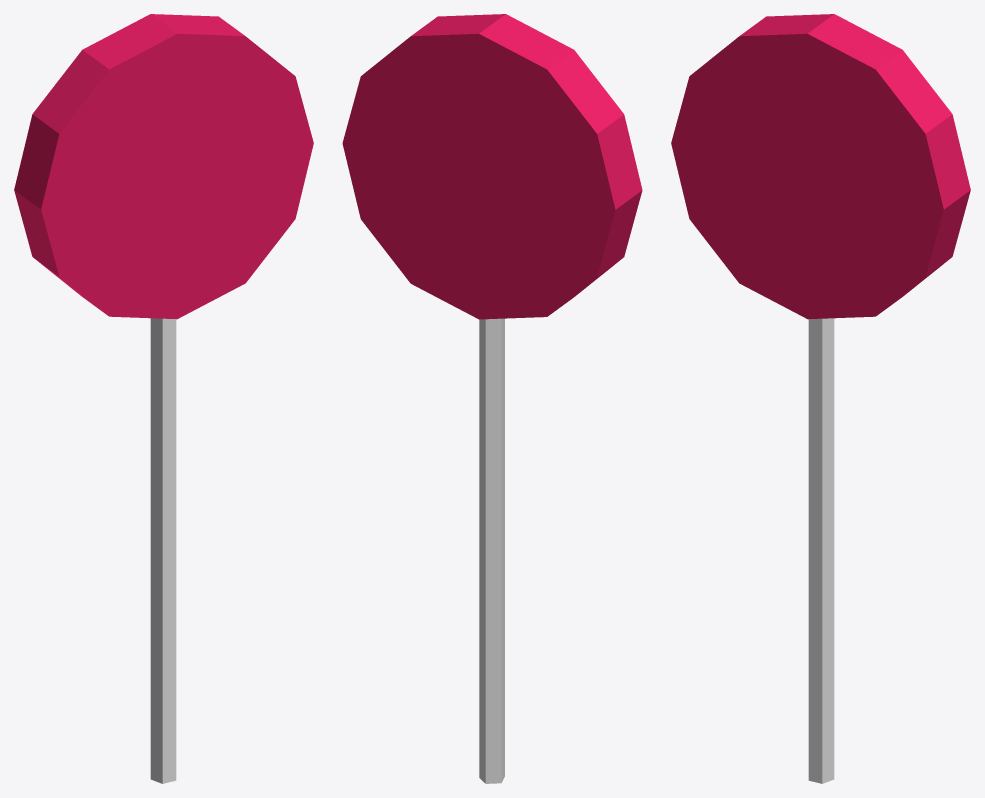
The model's file is lollipop.obj.
The picture shows the model from 3 angles, left to right: view 1: azimuth 30°, elevation 25°; view 2: azimuth 150°, elevation 25°; view 3: azimuth 330°, elevation 25°; orthographic projection.
Visible parts, largest first — view 1: lollipop; view 2: lollipop; view 3: lollipop.
Part boxes in pixels (<box>): lollipop: <box>14,14,313,783</box>; lollipop: <box>342,14,642,783</box>; lollipop: <box>671,14,970,783</box>.
Size of the model in its own units: 0.07 by 0.185 by 0.012.
